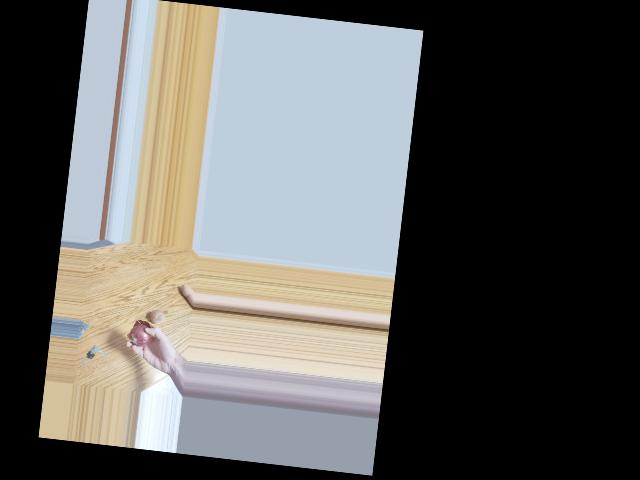onion: (148, 307, 165, 331)
